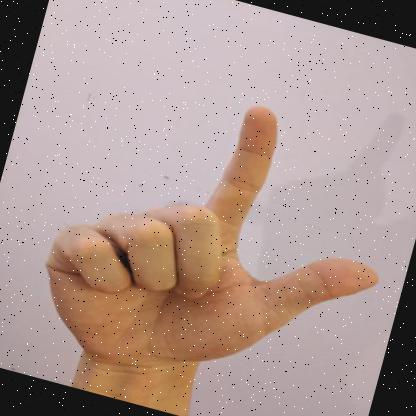L: (45, 106, 377, 386)
